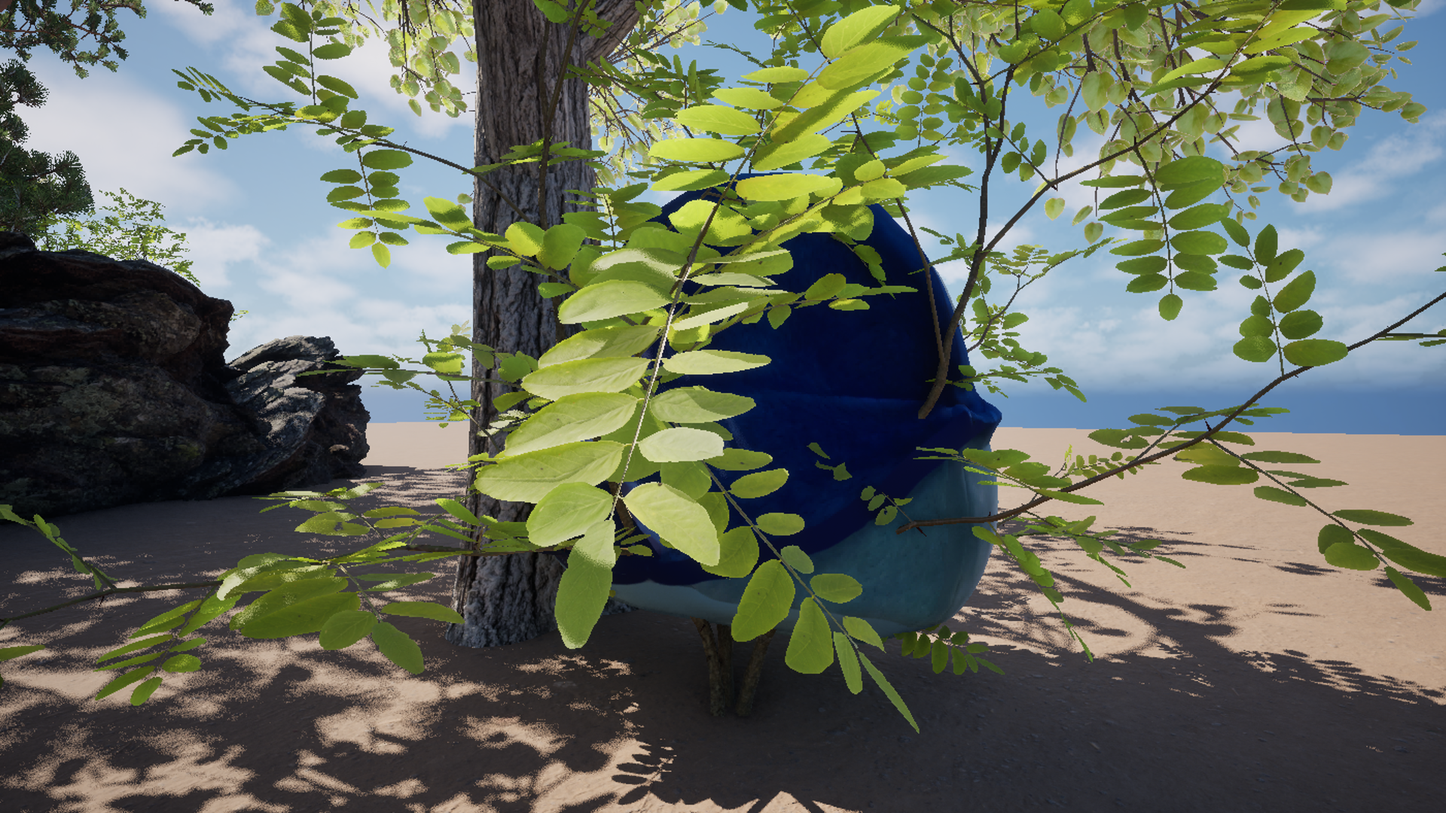Piplup: (347, 0, 1096, 813)
